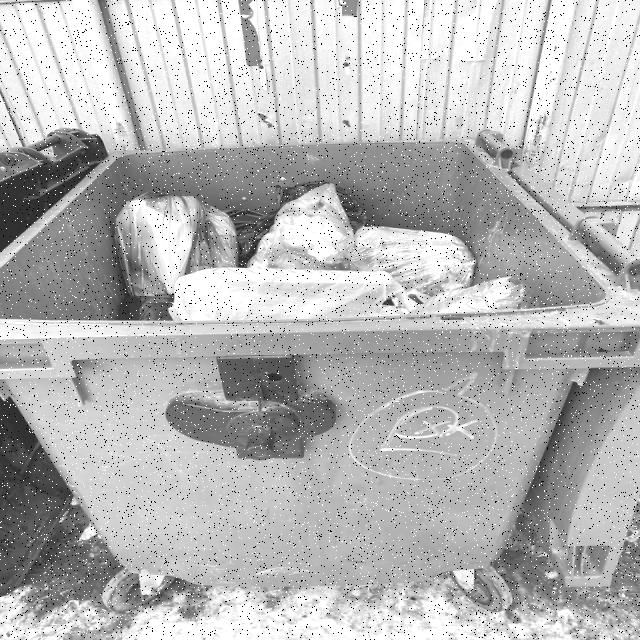Trashcan: (0, 99, 640, 629)
